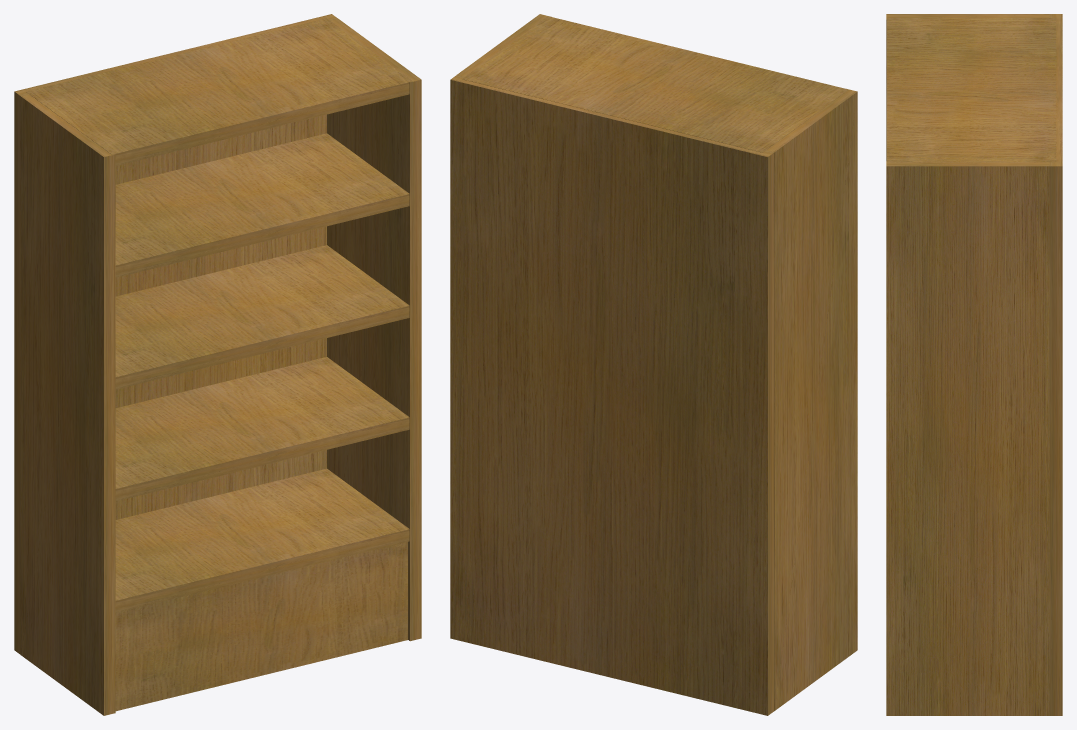
The model's file is Hylla_export.fbx.
3 views of the same model, side by side, from view 1: azimuth 30°, elevation 25°; view 2: azimuth 150°, elevation 25°; view 3: azimuth 270°, elevation 25° (orthographic).
Visible parts, largest first — view 1: pCube3, pCube9, pCube4, pCube2, pCube10, pCube11, pCube12, pCube13, pCube1; view 2: pCube1, pCube3, pCube9, pCube2; view 3: pCube2, pCube9, pCube1, pCube3.
Boxes of the visible parts, x1,y1,x2,y2 form: pCube3: (20, 94, 115, 715); pCube9: (26, 18, 412, 165); pCube4: (115, 542, 407, 711); pCube2: (327, 19, 421, 641); pCube10: (115, 133, 409, 277); pCube11: (115, 245, 409, 389); pCube12: (115, 357, 409, 501); pCube13: (115, 468, 409, 612); pCube1: (14, 14, 337, 654); pCube1: (450, 75, 774, 715); pCube3: (766, 88, 857, 710); pCube9: (462, 16, 848, 152); pCube2: (457, 14, 551, 76); pCube2: (886, 161, 1049, 715); pCube9: (887, 18, 1056, 162); pCube1: (1049, 14, 1062, 715); pCube3: (886, 14, 1049, 160).
Size of the model in its own units: 0.8926 by 1.5 by 0.4366.
Materials: 1 (1 with a texture image).
